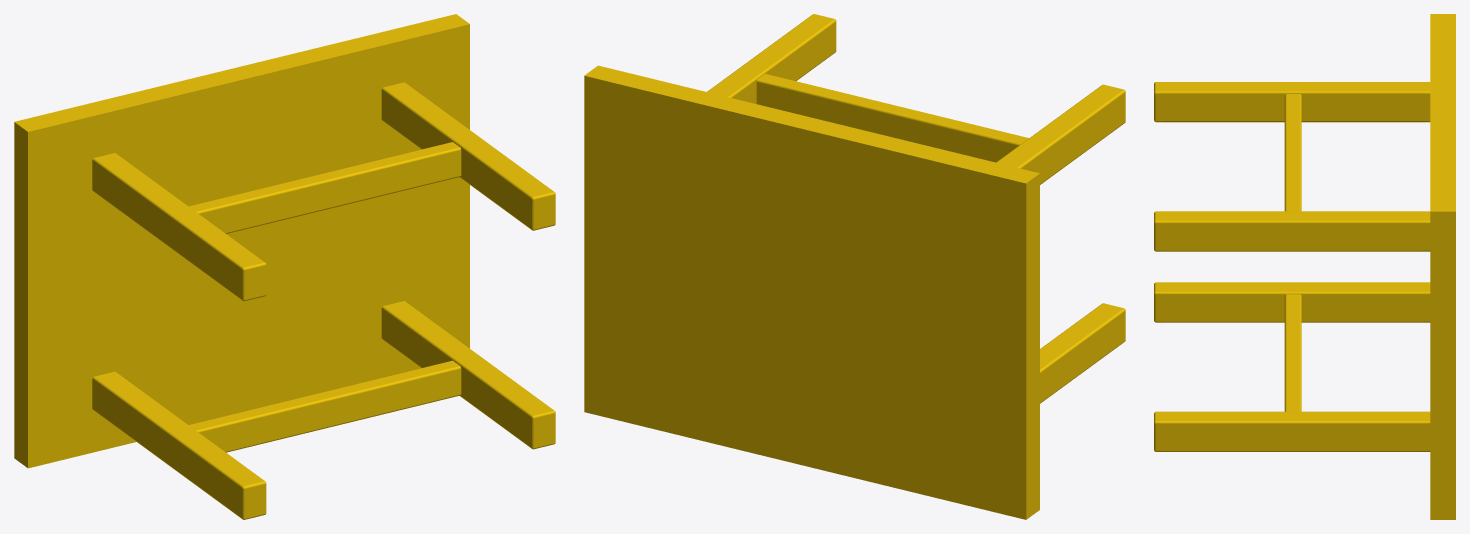
Rendered from VIS_Table_11_2.dae.
3 views of the same model, side by side, from view 1: azimuth 30°, elevation 25°; view 2: azimuth 150°, elevation 25°; view 3: azimuth 270°, elevation 25° (orthographic). The views are drawn at different scales.
Parts seen in each view (by area): view 1: VIS_Table_11_2; view 2: VIS_Table_11_2; view 3: VIS_Table_11_2.
Part boxes in pixels (x1=…): VIS_Table_11_2: x1=14, y1=14, x2=555, y2=519; VIS_Table_11_2: x1=584, y1=14, x2=1125, y2=519; VIS_Table_11_2: x1=1154, y1=14, x2=1455, y2=519.
Bounding box in the file's own units: 110 × 71 × 80.
